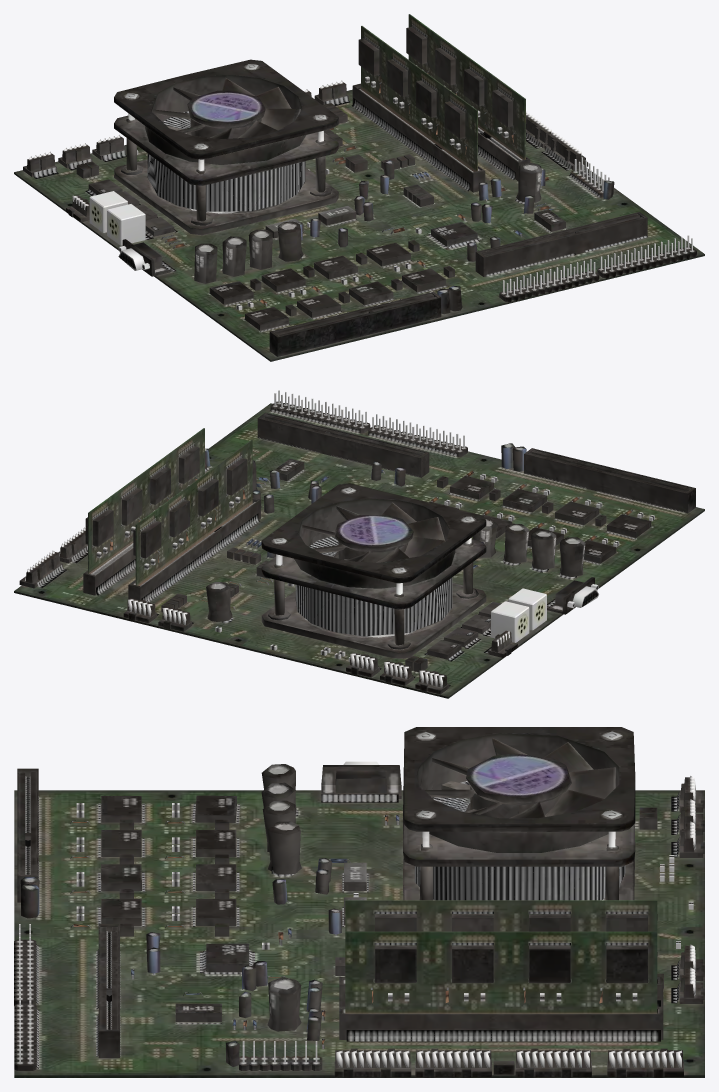
Rendered from motherboard.glb.
3 views of the same model, one above another, from view 1: azimuth 30°, elevation 25°; view 2: azimuth 150°, elevation 25°; view 3: azimuth 270°, elevation 25° (orthographic). The views are drawn at different scales.
Visible parts, largest first — view 1: circuit_board; view 2: circuit_board; view 3: circuit_board.
Boxes of the visible parts, <box> form: circuit_board: <box>14,14,704,361</box>; circuit_board: <box>14,390,704,698</box>; circuit_board: <box>14,727,704,1077</box>.
Size of the model in its own units: 0.4035 by 0.0775 by 0.3974.
2 materials, 2 textured.
